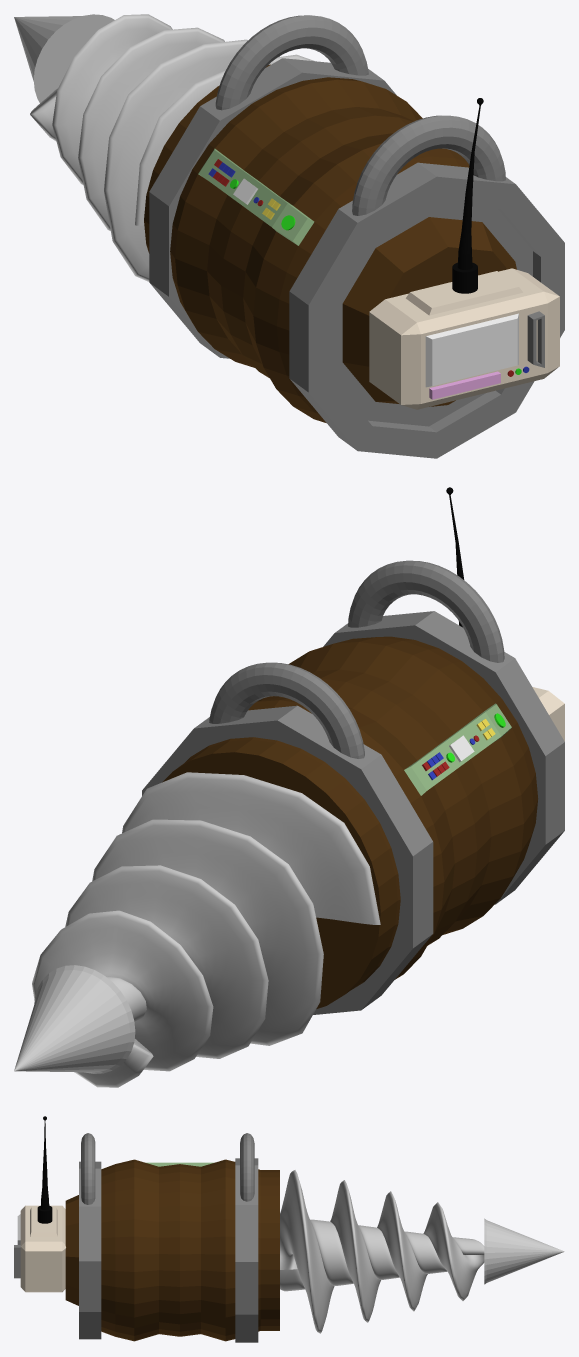
Rendered from Ore Driller Final.fbx.
3 views of the same model, one above another, from view 1: azimuth 30°, elevation 25°; view 2: azimuth 150°, elevation 25°; view 3: azimuth 270°, elevation 25° (orthographic). The views are drawn at different scales.
Parts seen in each view (by area): view 1: Ore Driller; view 2: Ore Driller; view 3: Ore Driller.
Boxes of the visible parts, x1,y1,x2,y2 form: Ore Driller: (14, 14, 564, 458); Ore Driller: (14, 487, 564, 1087); Ore Driller: (14, 1116, 564, 1342).
Size of the model in its own units: 143 by 193 by 432.
